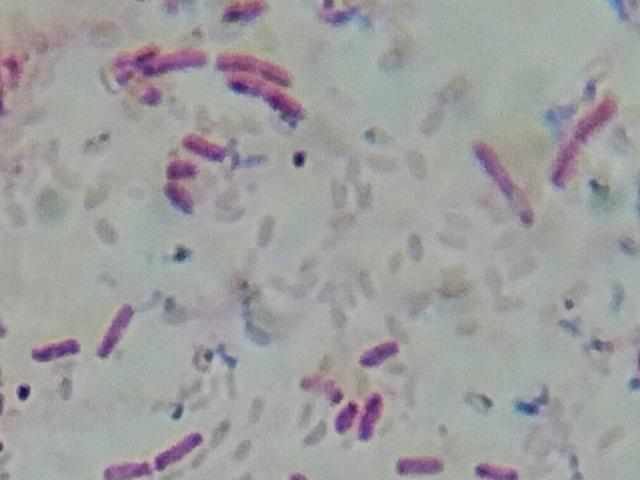E. coli: (473, 139, 534, 225), (228, 74, 314, 118), (94, 297, 140, 361), (222, 42, 293, 81), (152, 430, 210, 470), (573, 98, 623, 144), (25, 330, 79, 366), (187, 132, 232, 166), (390, 451, 441, 478), (140, 54, 209, 73), (99, 454, 147, 480), (547, 141, 575, 182), (363, 340, 402, 369), (166, 180, 202, 210), (362, 392, 384, 441), (114, 42, 158, 66), (474, 457, 517, 480), (209, 4, 283, 17), (335, 400, 361, 434), (167, 158, 194, 180)
